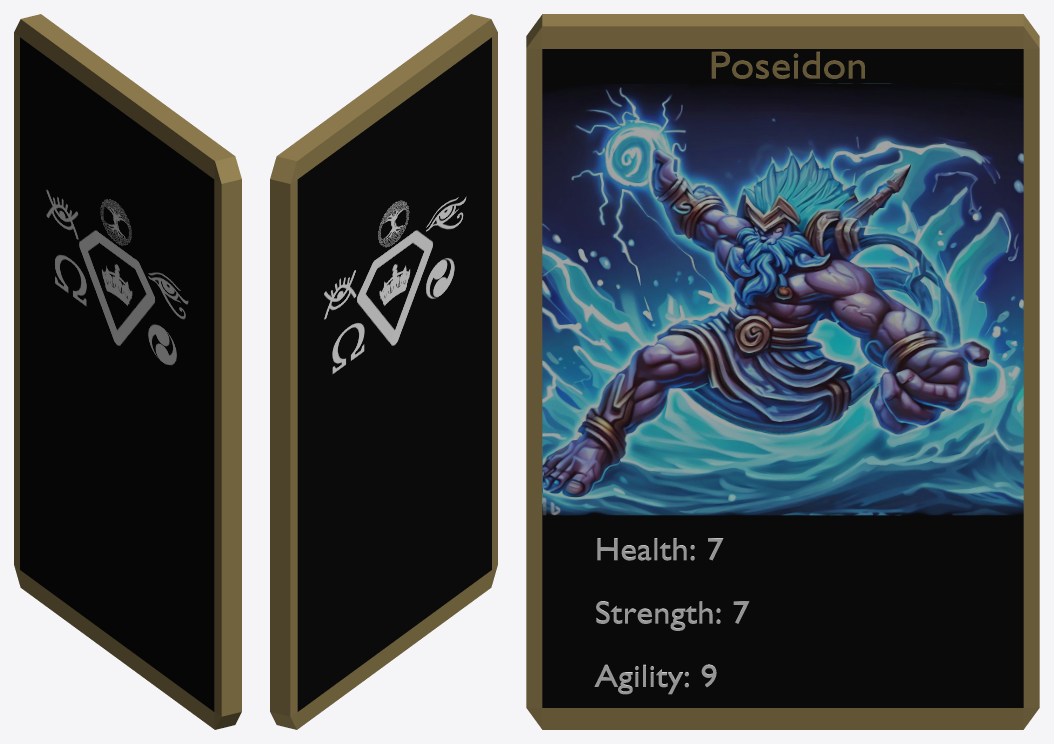
Rendered from Poseidon.fbx.
The picture shows the model from 3 angles, left to right: view 1: azimuth 30°, elevation 25°; view 2: azimuth 150°, elevation 25°; view 3: azimuth 270°, elevation 25°; orthographic projection. The views are drawn at different scales.
Visible parts, largest first — view 1: Poseidon; view 2: Poseidon; view 3: Poseidon.
Boxes of the visible parts, x1,y1,x2,y2 form: Poseidon: (14, 14, 241, 729); Poseidon: (270, 14, 497, 729); Poseidon: (526, 14, 1039, 729).
Bounding box in the file's own units: 20.45 × 482 × 319.
Materials: 5 (2 with a texture image).
